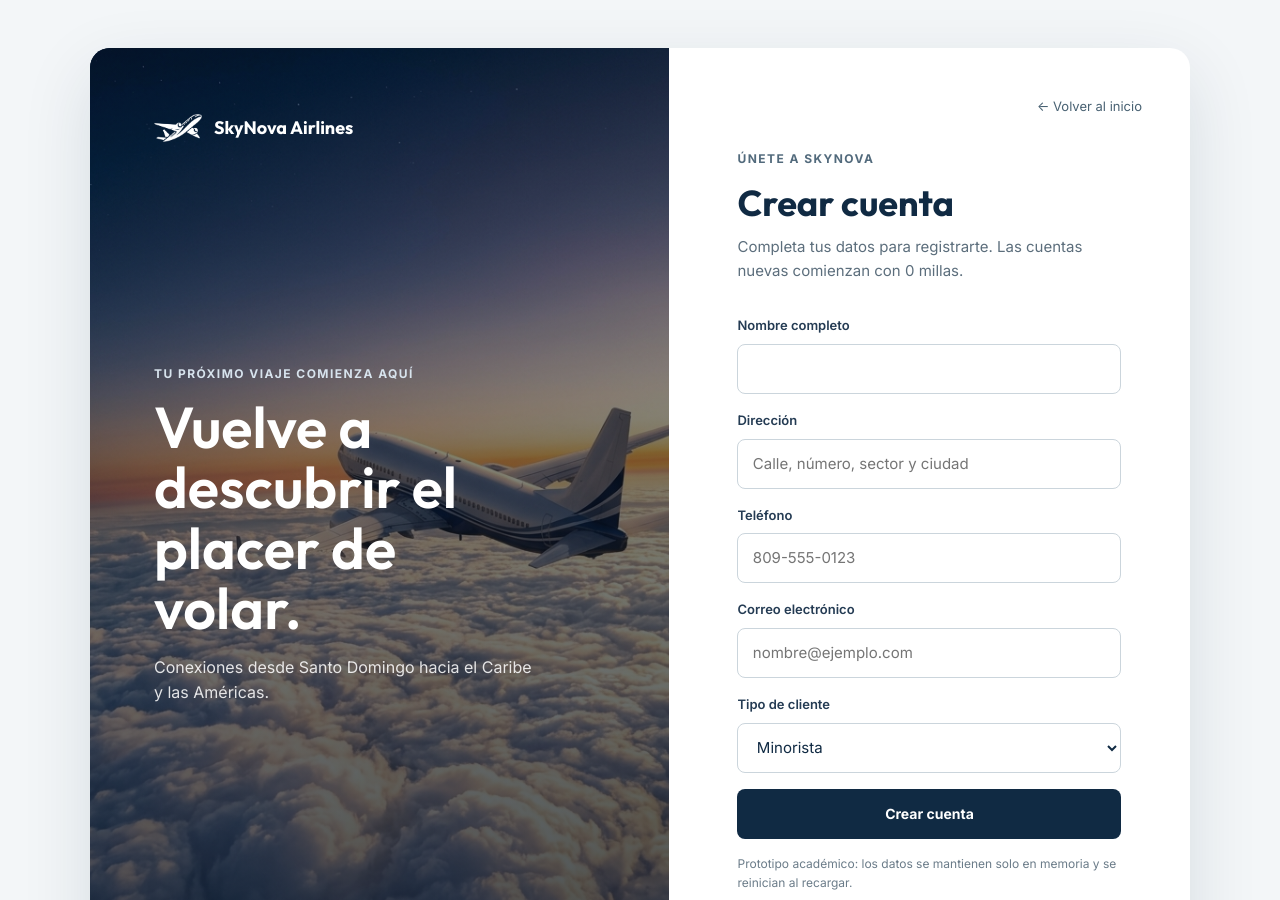
LoginPage — CU-02 registration › rejects an invalid phone and accepts +, spaces and hyphens
The width and height of the screenshot is (1280, 900).
Later steps or results of the test are not shown.
Type "Luis Gómez" into the field labelled "Nombre completo" at (930, 369), box [738,344,1122,394]
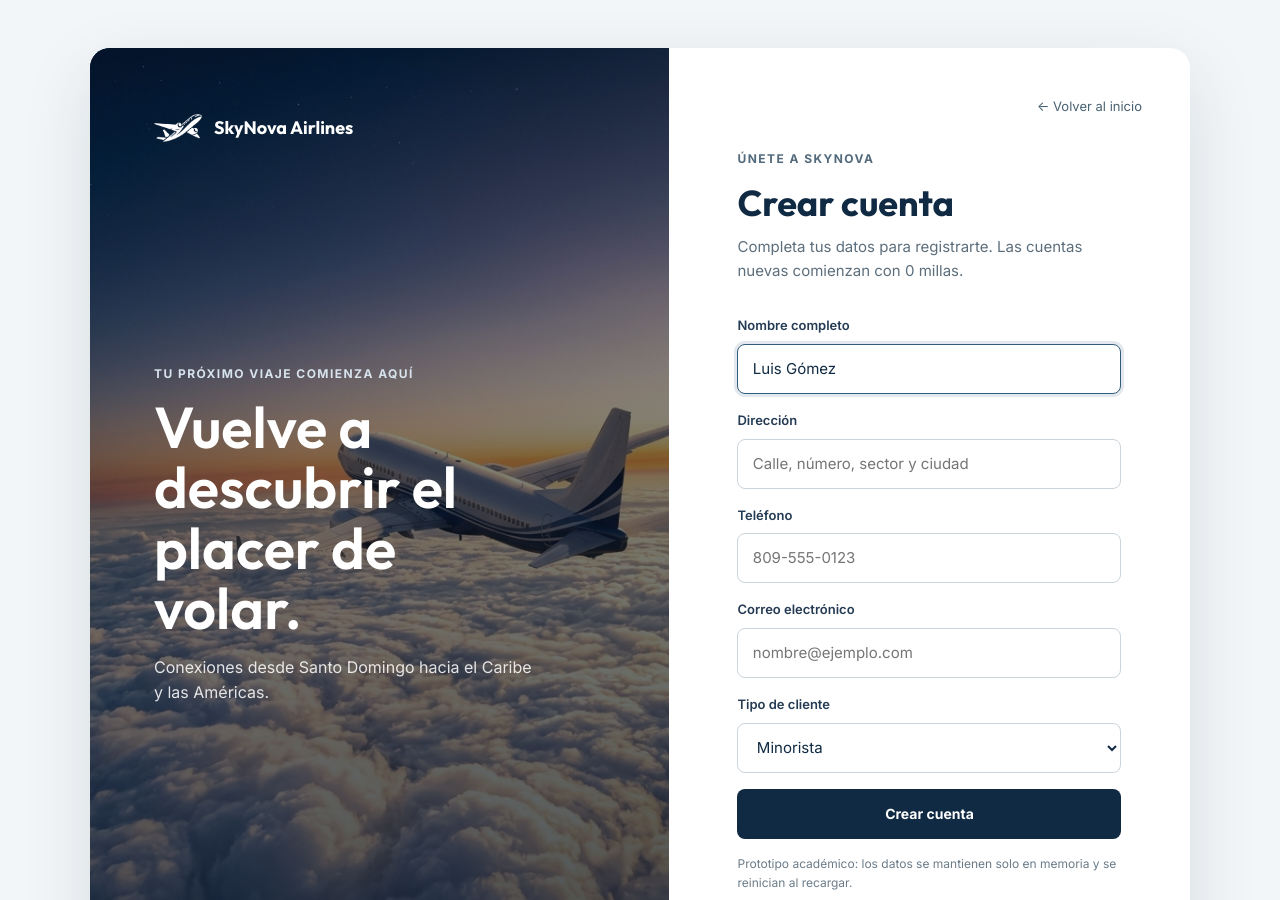
Type "Calle 1" into the field labelled "Dirección" at (930, 464), box [738,439,1122,489]
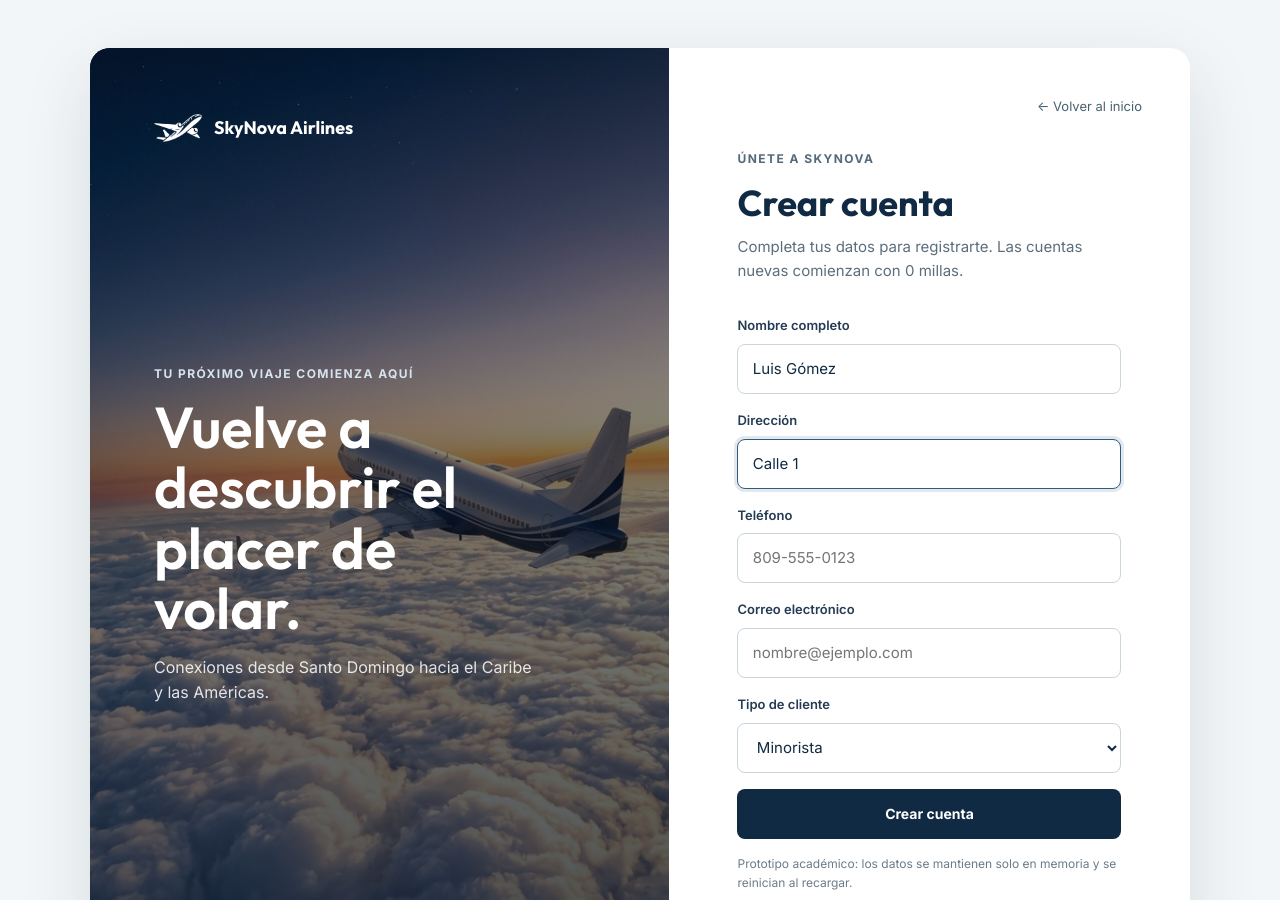
Type "abc" into the field labelled "Teléfono" at (930, 558), box [738,533,1122,583]
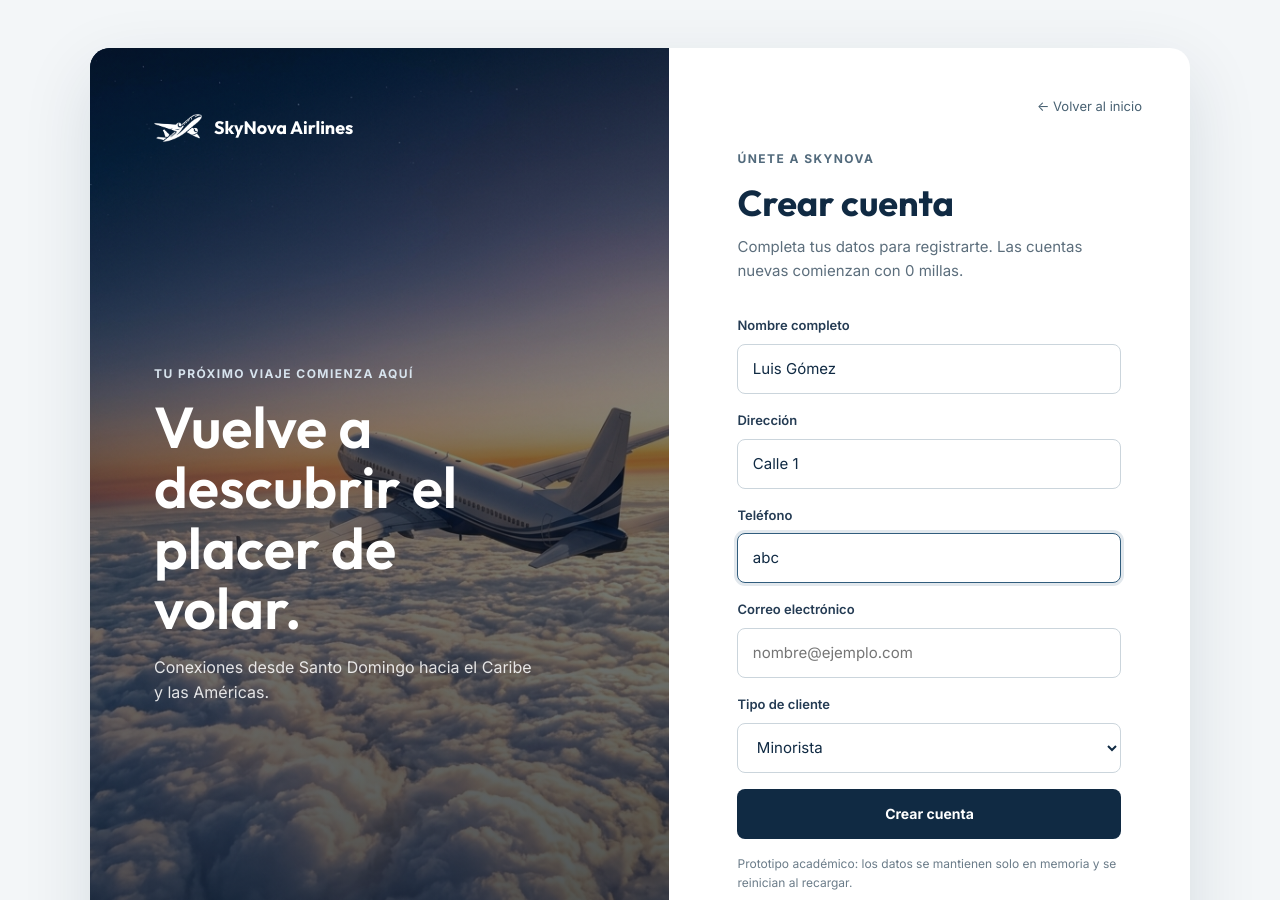
Type "luis@demo.test" into the field labelled "Correo electrónico" at (930, 653), box [738,628,1122,678]
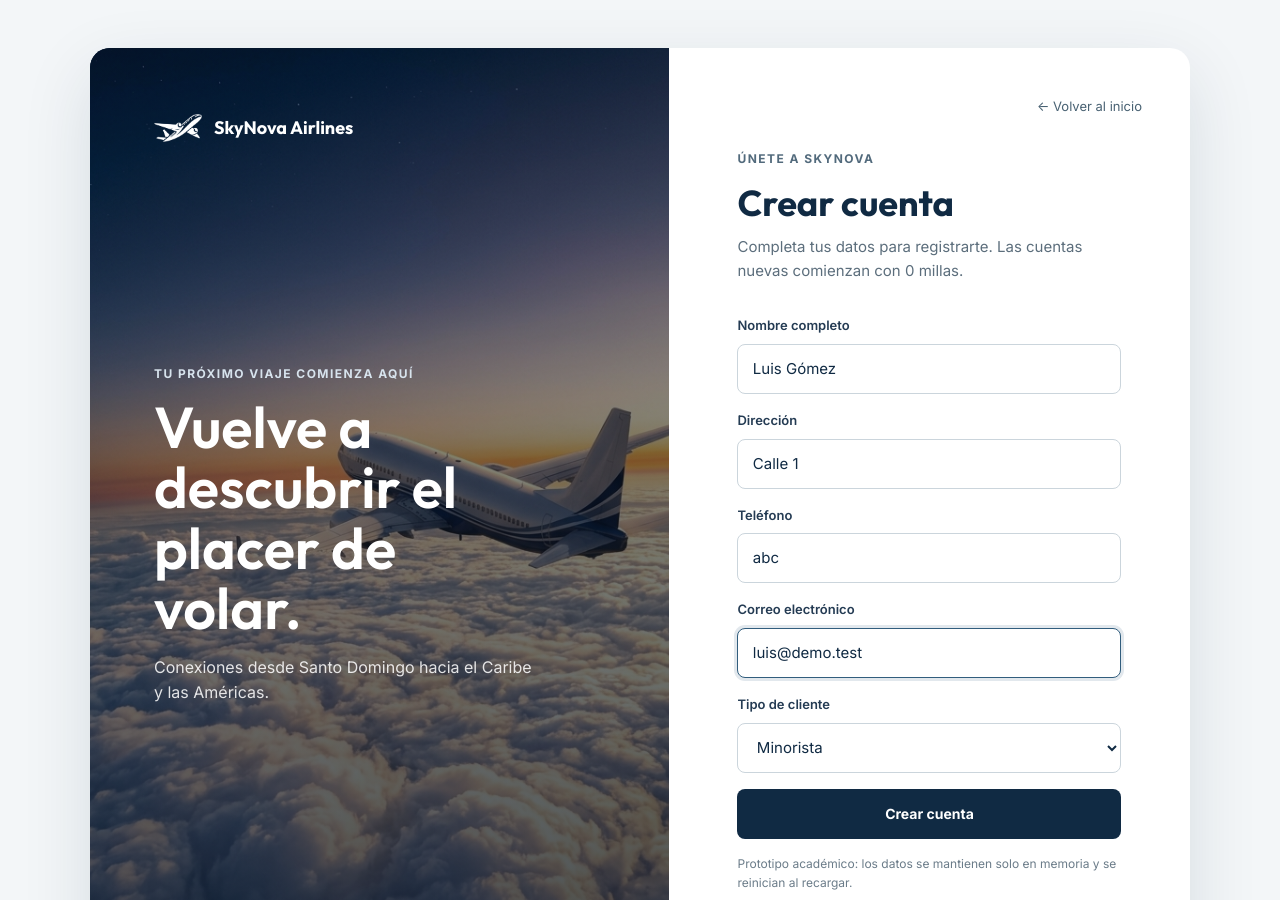
Click the button "Crear cuenta" at (930, 814), box [738,789,1122,839]
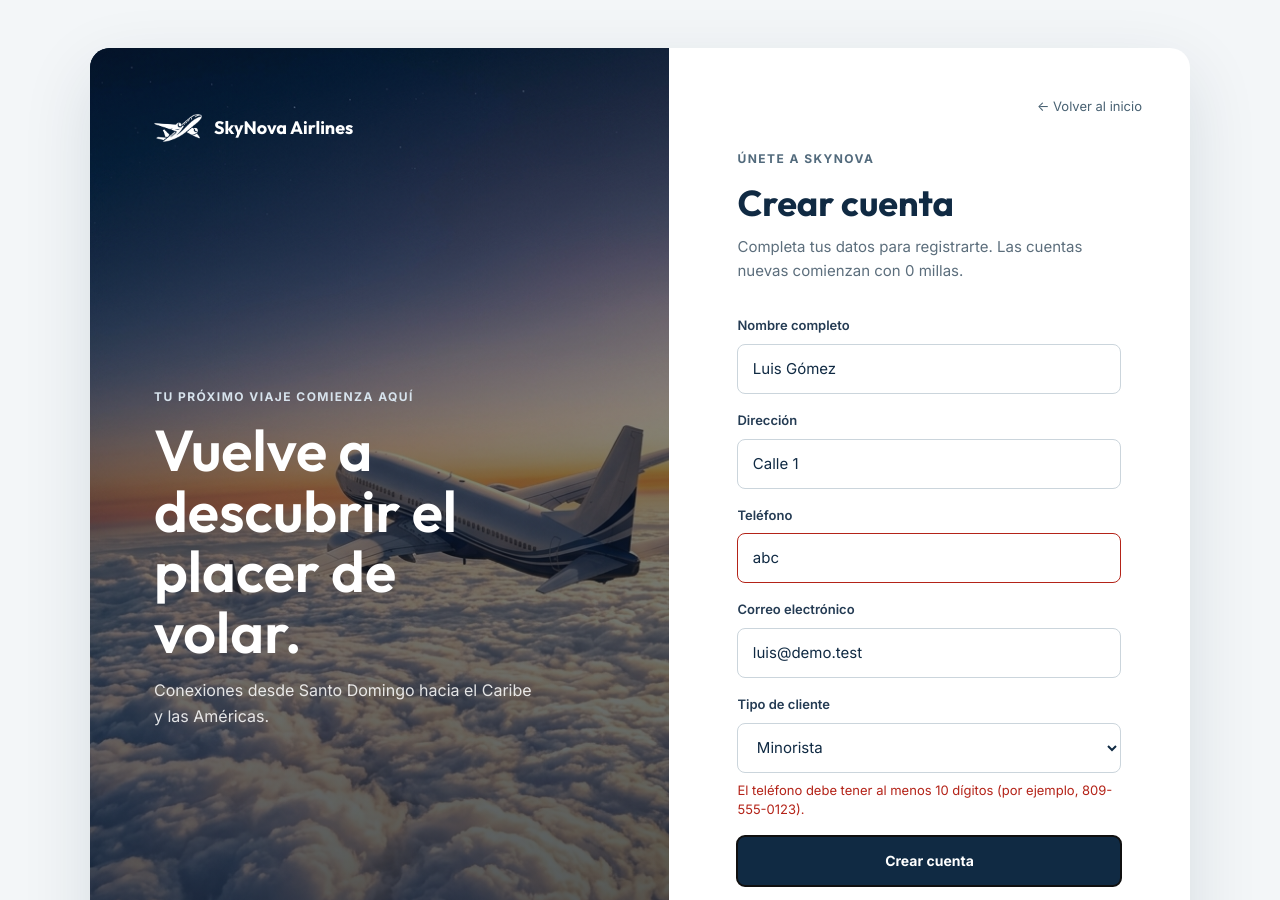
expect the text "El teléfono debe tener al menos 10 dígitos (por ejemplo, 809-555-0123)." is shown: met, box [738,781,1122,820]
